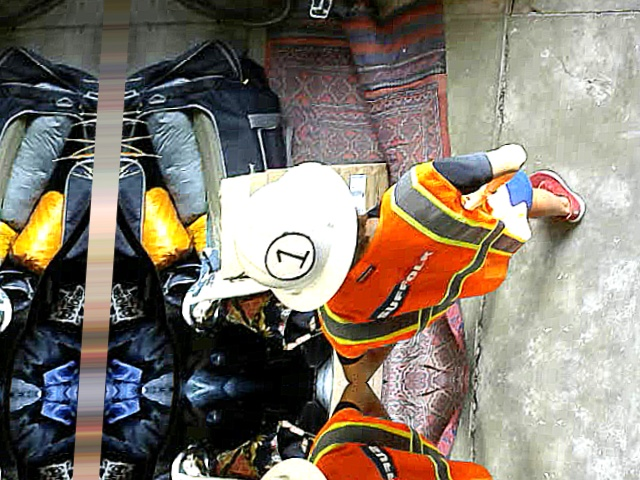one: (263, 228, 315, 281)
